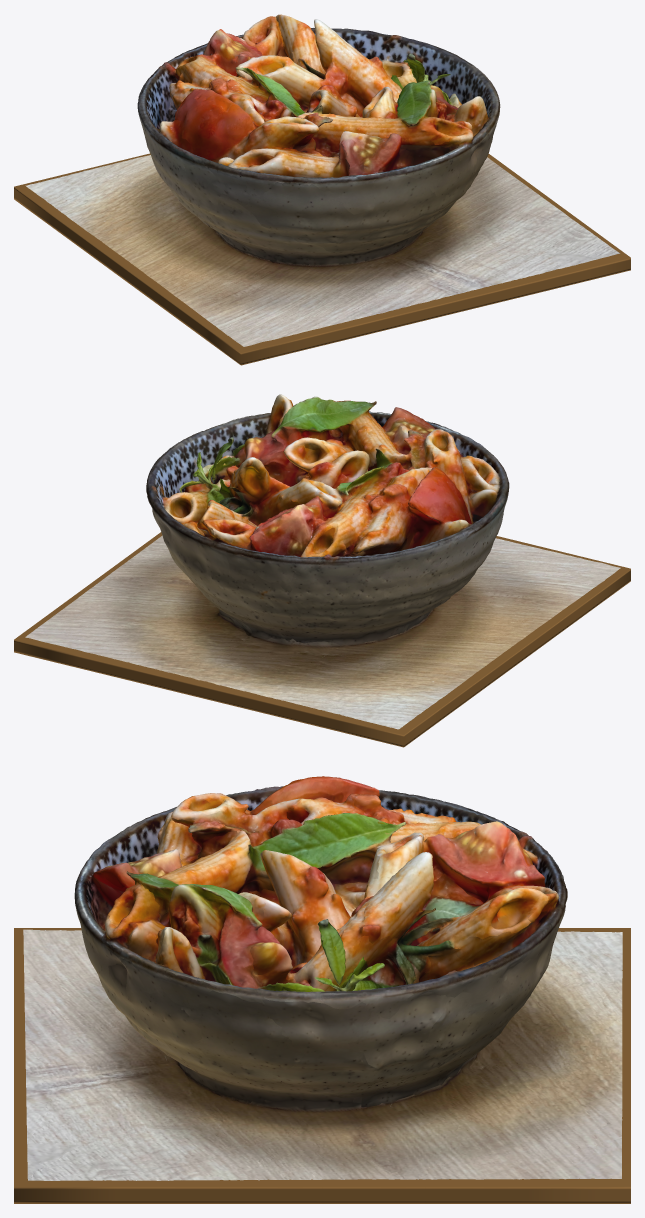
The model's file is pasta-al-pesto.glb.
3 renders of one model, top to bottom at view 1: azimuth 30°, elevation 25°; view 2: azimuth 150°, elevation 25°; view 3: azimuth 270°, elevation 25°, orthographic. The views are drawn at different scales.
Parts seen in each view (by area): view 1: Object_2, Object_3, Object_4; view 2: Object_2, Object_3, Object_4; view 3: Object_2, Object_3, Object_4.
Part boxes in pixels (x1,y1,x2,y2): Object_2: [26, 14, 619, 346]; Object_3: [25, 16, 530, 338]; Object_4: [14, 153, 630, 365]; Object_2: [25, 394, 620, 728]; Object_3: [87, 412, 608, 729]; Object_4: [14, 532, 630, 747]; Object_2: [23, 776, 622, 1180]; Object_3: [23, 778, 622, 1176]; Object_4: [14, 928, 630, 1203].
Bounding box in the file's own units: 1.25 × 0.5466 × 1.26.
1 material, 1 textured.
